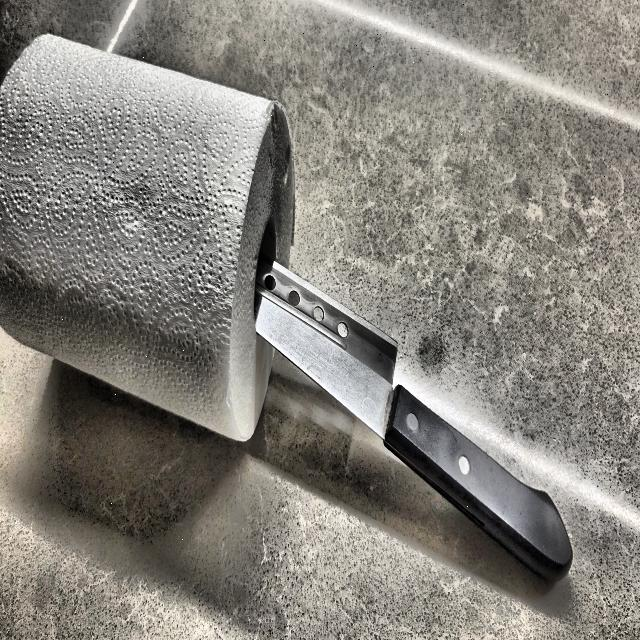knife: (252, 253, 572, 589)
